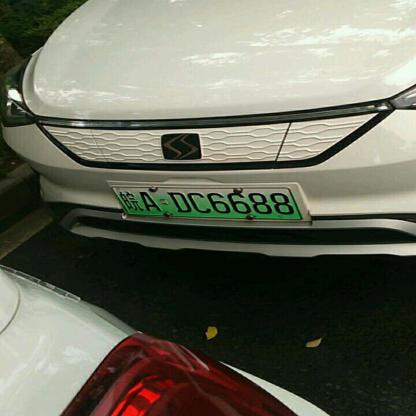lp: (112, 186, 302, 219)
